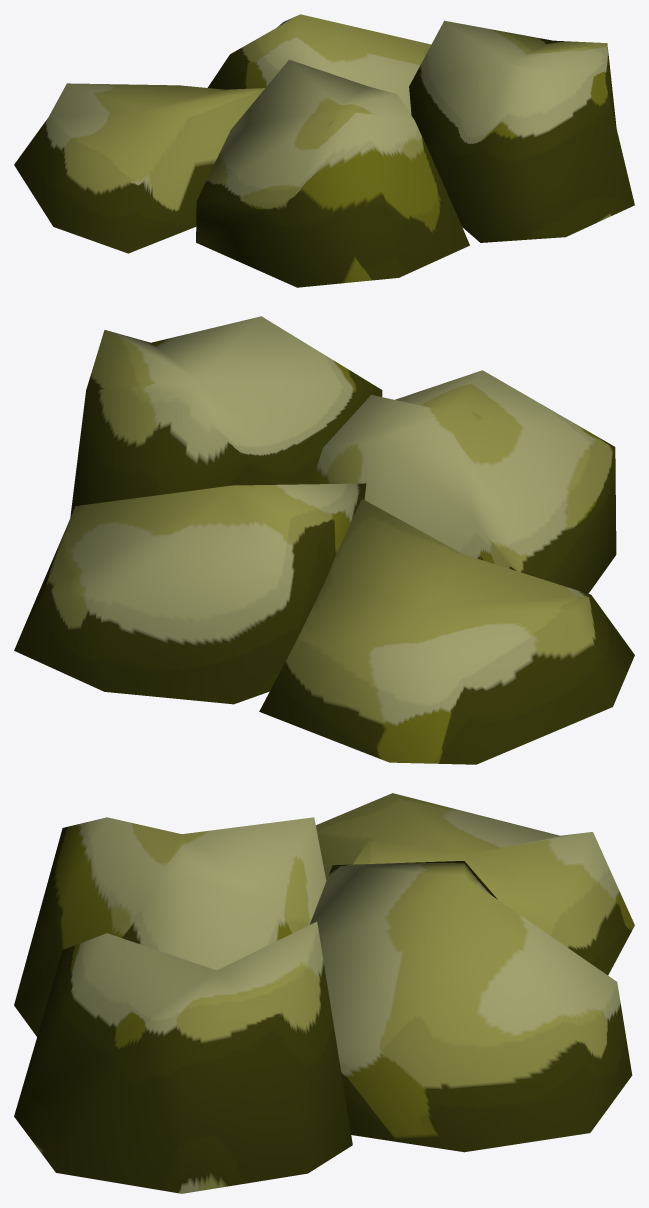
Rendered from Rock 1x 1 5_preview_3DS_simplified.glb.
The picture shows the model from 3 angles, top to bottom: view 1: azimuth 30°, elevation 25°; view 2: azimuth 150°, elevation 25°; view 3: azimuth 270°, elevation 25°; orthographic projection. The views are drawn at different scales.
Visible parts, largest first — view 1: Marine Park Empire model; view 2: Marine Park Empire model; view 3: Marine Park Empire model.
Boxes of the visible parts, left/top/right/bottom form: Marine Park Empire model: left=14, top=14, right=634, bottom=287; Marine Park Empire model: left=14, top=316, right=634, bottom=764; Marine Park Empire model: left=14, top=793, right=634, bottom=1193.
Bounding box in the file's own units: 21.47 × 5.81 × 17.26.
Materials: 1 (1 with a texture image).
